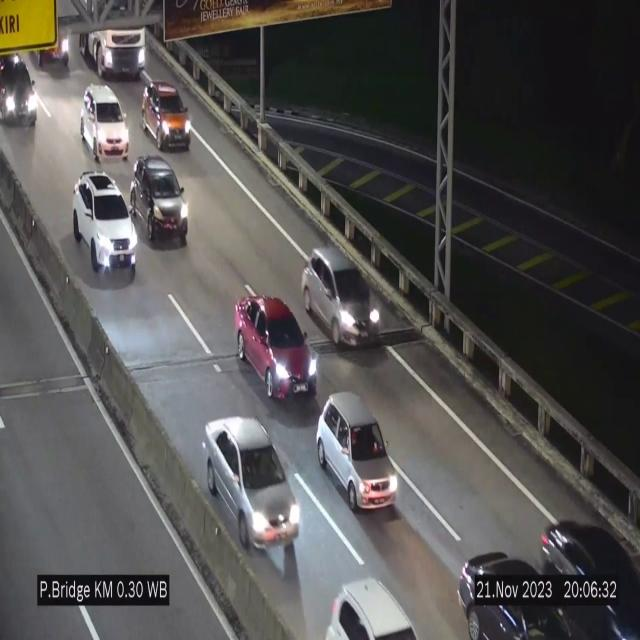Car: (538, 497, 640, 640), (446, 530, 578, 640), (202, 418, 301, 550), (316, 392, 398, 511), (300, 244, 386, 354), (234, 294, 318, 399), (73, 171, 137, 280), (320, 572, 418, 640), (130, 154, 188, 246), (81, 84, 129, 160), (141, 80, 191, 150), (0, 47, 36, 130)
Truck: (77, 0, 147, 83)
